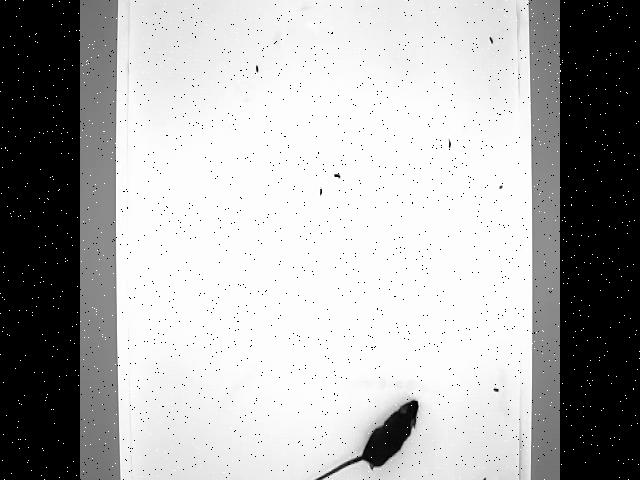Tikus: (288, 387, 423, 480)
